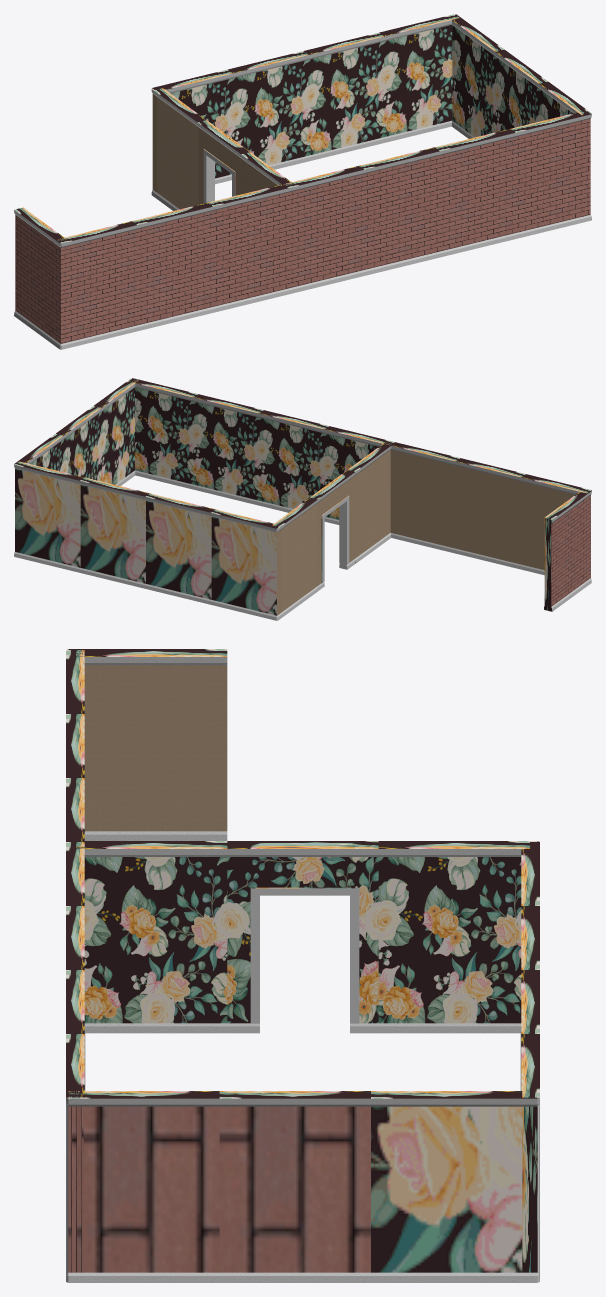
Rendered from ps1wallssofar.glb.
The picture shows the model from 3 angles, top to bottom: view 1: azimuth 30°, elevation 25°; view 2: azimuth 150°, elevation 25°; view 3: azimuth 270°, elevation 25°; orthographic projection. The views are drawn at different scales.
Parts seen in each view (by area): view 1: Cube.020, Cube.004, Cube.007, Cube.014, Cube.018, Cube.012, Cube.008, Cube.017, Cube.015, Cube.001, Cube.006, Cube.003 (+1 smaller); view 2: Cube.001, Cube.014, Cube.020, Cube.004, Cube.015, Cube.018, Cube.008, Cube.006, Cube.017, Cube.007, Cube.012, Cube.009 (+1 smaller); view 3: Cube.004, Cube.014, Cube.003, Cube.001, Cube.007, Cube.020, Cube.009, Cube.008, Cube.015, Cube.006, Cube.012, Cube.017 (+1 smaller).
Boxes of the visible parts, left/top/right/bottom form: Cube.020: left=14, top=207, right=137, bottom=349; Cube.004: left=379, top=14, right=504, bottom=142; Cube.007: left=241, top=152, right=364, bottom=294; Cube.014: left=510, top=81, right=591, bottom=238; Cube.018: left=132, top=202, right=212, bottom=331; Cube.012: left=359, top=147, right=439, bottom=275; Cube.008: left=303, top=32, right=384, bottom=161; Cube.017: left=208, top=184, right=288, bottom=312; Cube.015: left=435, top=129, right=515, bottom=257; Cube.001: left=151, top=69, right=232, bottom=210; Cube.006: left=228, top=51, right=308, bottom=169; Cube.003: left=495, top=49, right=547, bottom=132; Cube.001: left=211, top=497, right=317, bottom=620; Cube.014: left=94, top=378, right=197, bottom=489; Cube.020: left=521, top=474, right=591, bottom=611; Cube.004: left=14, top=433, right=83, bottom=572; Cube.015: left=193, top=394, right=263, bottom=505; Cube.018: left=455, top=458, right=525, bottom=569; Cube.008: left=80, top=477, right=149, bottom=588; Cube.006: left=145, top=493, right=215, bottom=604; Cube.017: left=390, top=442, right=459, bottom=553; Cube.007: left=324, top=426, right=394, bottom=563; Cube.012: left=259, top=410, right=328, bottom=517; Cube.009: left=310, top=470, right=355, bottom=590; Cube.004: left=371, top=1034, right=539, bottom=1282; Cube.014: left=66, top=1034, right=219, bottom=1282; Cube.003: left=219, top=1091, right=370, bottom=1282; Cube.001: left=378, top=841, right=539, bottom=1088; Cube.007: left=66, top=841, right=227, bottom=1088; Cube.020: left=66, top=649, right=227, bottom=840; Cube.009: left=227, top=841, right=378, bottom=1033; Cube.008: left=521, top=970, right=539, bottom=1216; Cube.015: left=66, top=970, right=84, bottom=1216; Cube.006: left=520, top=906, right=539, bottom=1152; Cube.012: left=66, top=906, right=85, bottom=1152; Cube.017: left=66, top=778, right=84, bottom=841.
Bounding box in the file's own units: 14.06 × 2.68 × 6.26.
Materials: 4 (4 with a texture image).
